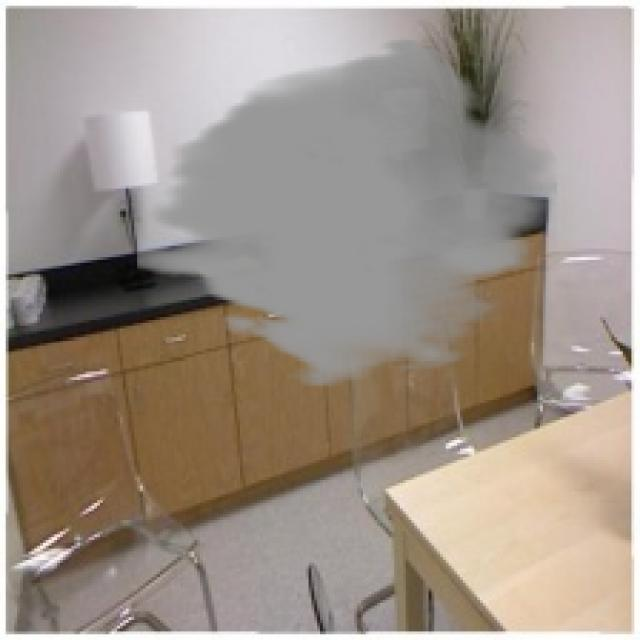Smoke: (137, 37, 557, 389)
